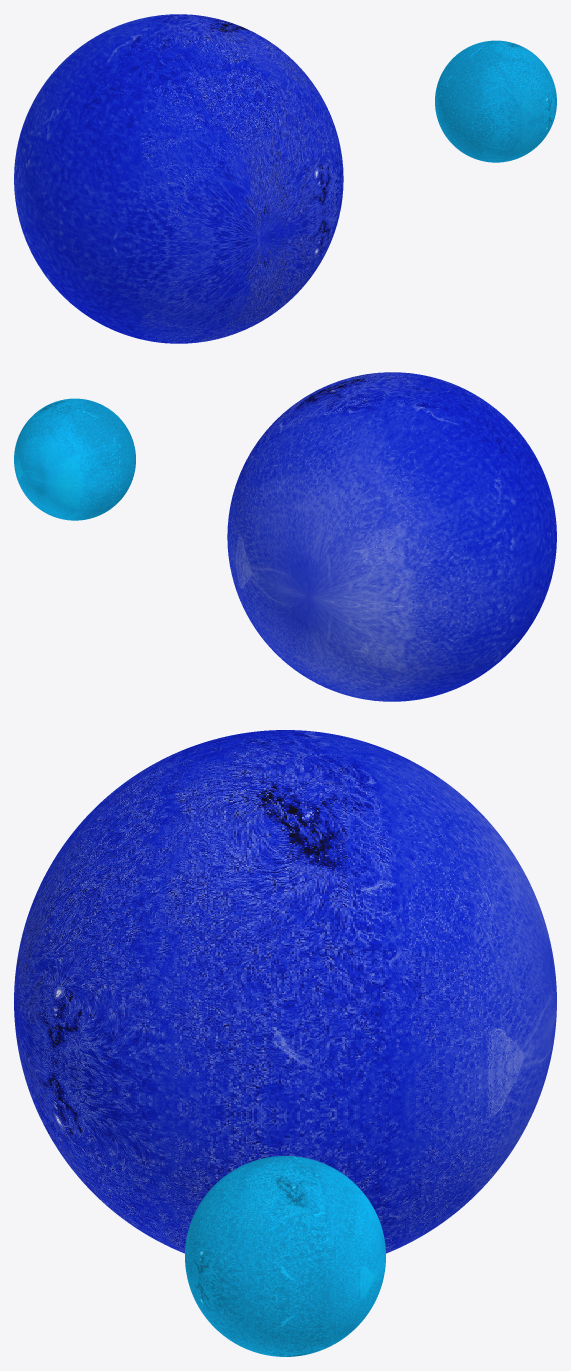
The picture shows the model from 3 angles, top to bottom: view 1: azimuth 30°, elevation 25°; view 2: azimuth 150°, elevation 25°; view 3: azimuth 270°, elevation 25°; orthographic projection. The views are drawn at different scales.
Parts seen in each view (by area): view 1: Renderer Node_3; view 2: Renderer Node_3; view 3: Renderer Node_3.
Part boxes in pixels (left/top/right/bottom): Renderer Node_3: left=14, top=14, right=556, bottom=343; Renderer Node_3: left=14, top=372, right=556, bottom=701; Renderer Node_3: left=14, top=730, right=556, bottom=1356.
Size of the model in its own units: 97 by 53.99 by 54.
2 materials, 2 textured.
